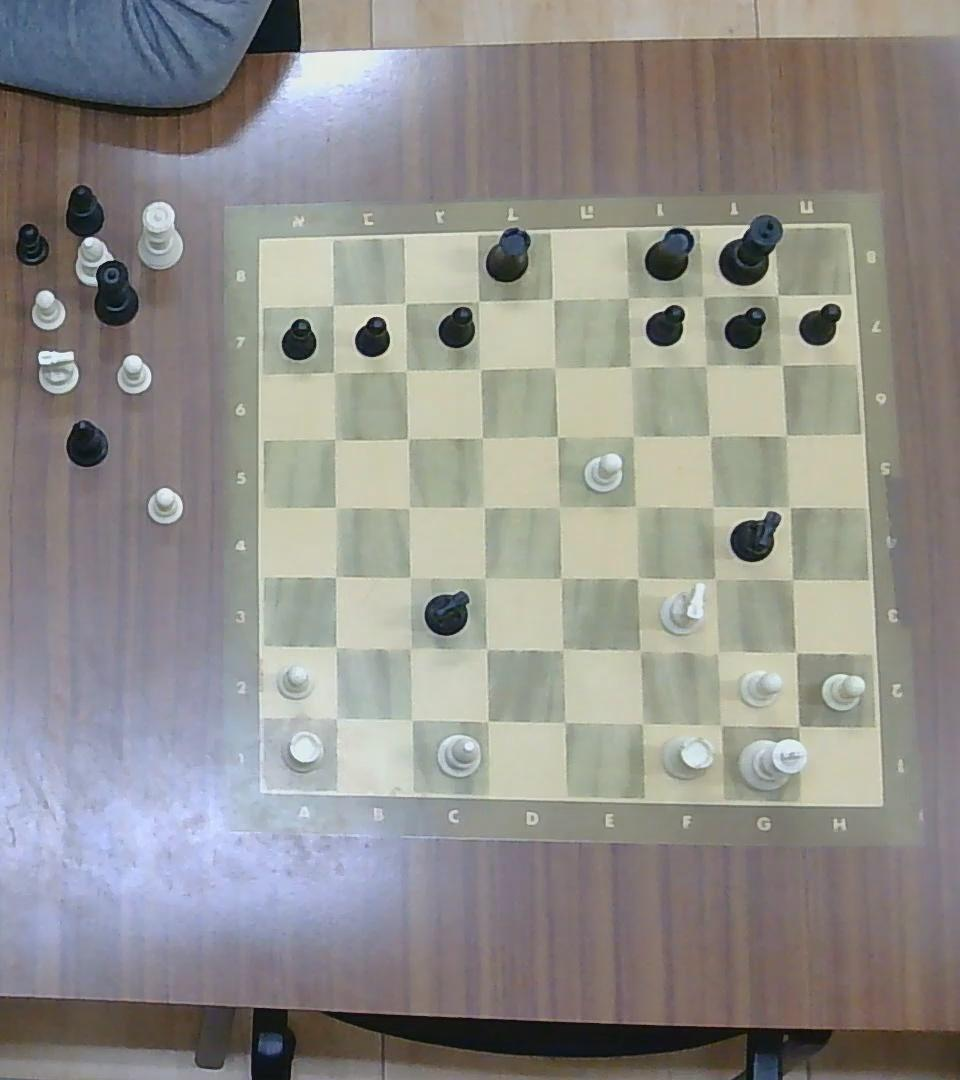xcorner: (624, 705, 658, 739), (702, 707, 737, 740), (780, 707, 815, 740), (701, 635, 734, 667), (624, 633, 655, 665), (548, 706, 579, 738), (470, 632, 501, 663), (320, 701, 351, 732), (780, 637, 811, 668), (776, 563, 807, 594), (470, 705, 502, 735), (395, 703, 425, 734), (699, 563, 729, 594), (394, 632, 424, 663), (622, 563, 652, 593), (547, 634, 577, 664), (470, 563, 500, 593), (547, 563, 576, 593), (320, 562, 350, 591), (320, 631, 350, 660), (615, 351, 645, 380), (622, 491, 651, 520), (698, 491, 727, 520), (394, 562, 423, 591), (775, 491, 804, 520), (618, 421, 648, 449), (545, 491, 573, 520), (470, 491, 498, 520), (466, 421, 495, 449), (395, 492, 423, 519), (543, 421, 571, 448), (393, 423, 421, 450), (538, 285, 566, 312), (614, 283, 642, 310), (318, 290, 346, 317), (323, 492, 349, 519), (696, 422, 723, 448), (322, 425, 348, 451), (465, 287, 491, 313), (541, 353, 567, 379), (693, 351, 719, 377), (392, 355, 418, 380), (690, 284, 716, 309), (768, 350, 794, 375), (467, 355, 492, 380), (773, 421, 798, 445), (392, 290, 418, 313), (323, 359, 346, 383), (767, 284, 789, 306)
